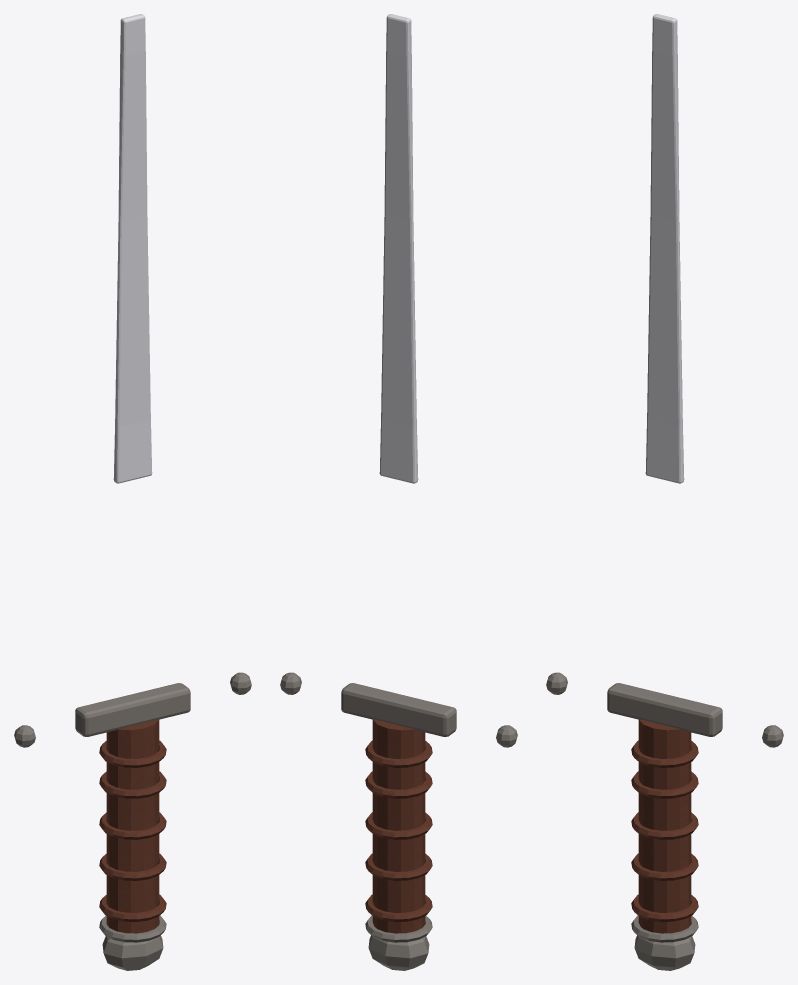
File: shortsword.fbx
3 views of the same model, side by side, from view 1: azimuth 30°, elevation 25°; view 2: azimuth 150°, elevation 25°; view 3: azimuth 330°, elevation 25° (orthographic).
Parts seen in each view (by area): view 1: shortsword; view 2: shortsword; view 3: shortsword.
Part boxes in pixels (x1,y1,x2,y2): shortsword: (14, 14, 251, 970); shortsword: (280, 14, 517, 970); shortsword: (546, 14, 783, 970).
Bounding box in the file's own units: 0.12 × 0.463 × 0.03.
Materials: 3 (1 with a texture image).
